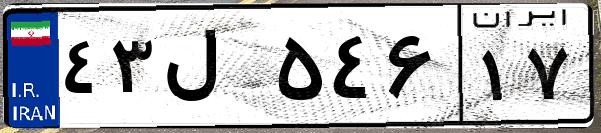1: (475, 38, 525, 113)
3: (110, 28, 158, 98)
4: (330, 28, 385, 110), (57, 26, 110, 100)
5: (270, 28, 330, 110)
6: (385, 28, 445, 110)
7: (525, 38, 570, 115)
ل: (158, 20, 270, 120)
